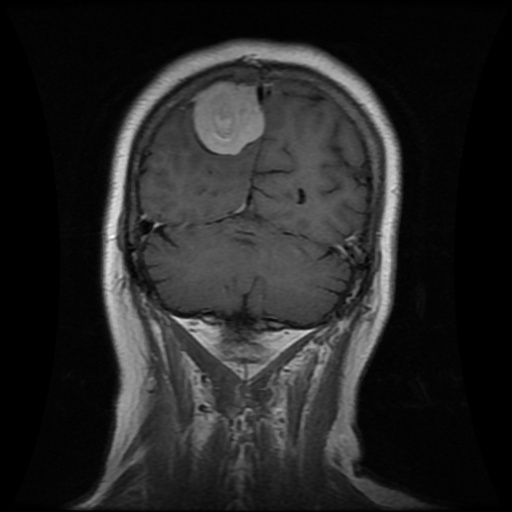meningioma: (193, 80, 265, 156)
